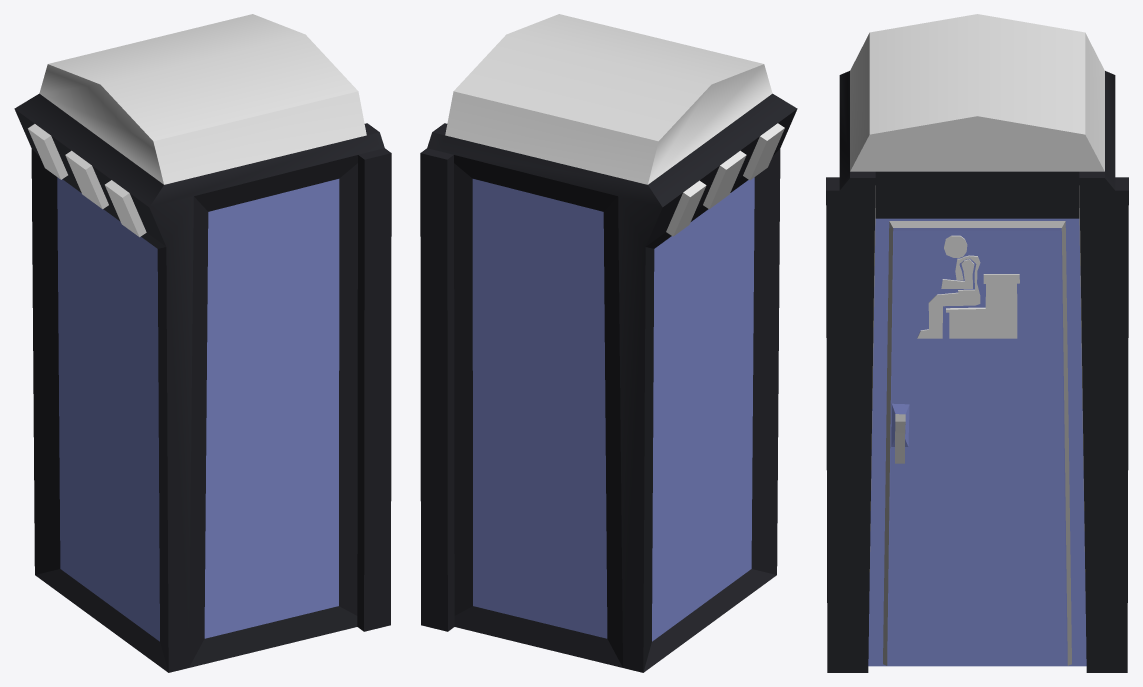
Rendered from PortaPotty.fbx.
The picture shows the model from 3 angles, left to right: view 1: azimuth 30°, elevation 25°; view 2: azimuth 150°, elevation 25°; view 3: azimuth 270°, elevation 25°; orthographic projection. The views are drawn at different scales.
Parts seen in each view (by area): view 1: PortaPotty; view 2: PortaPotty; view 3: PortaPotty.
Boxes of the visible parts, <box> form: PortaPotty: <box>14,14,391,672</box>; PortaPotty: <box>420,14,797,672</box>; PortaPotty: <box>826,14,1128,672</box>.
Size of the model in its own units: 2.22 by 4.45 by 2.22.
